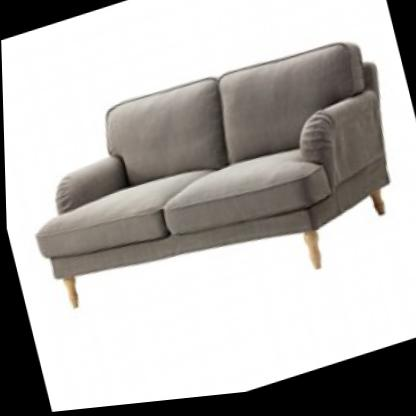Sofa: (1, 12, 416, 359)
